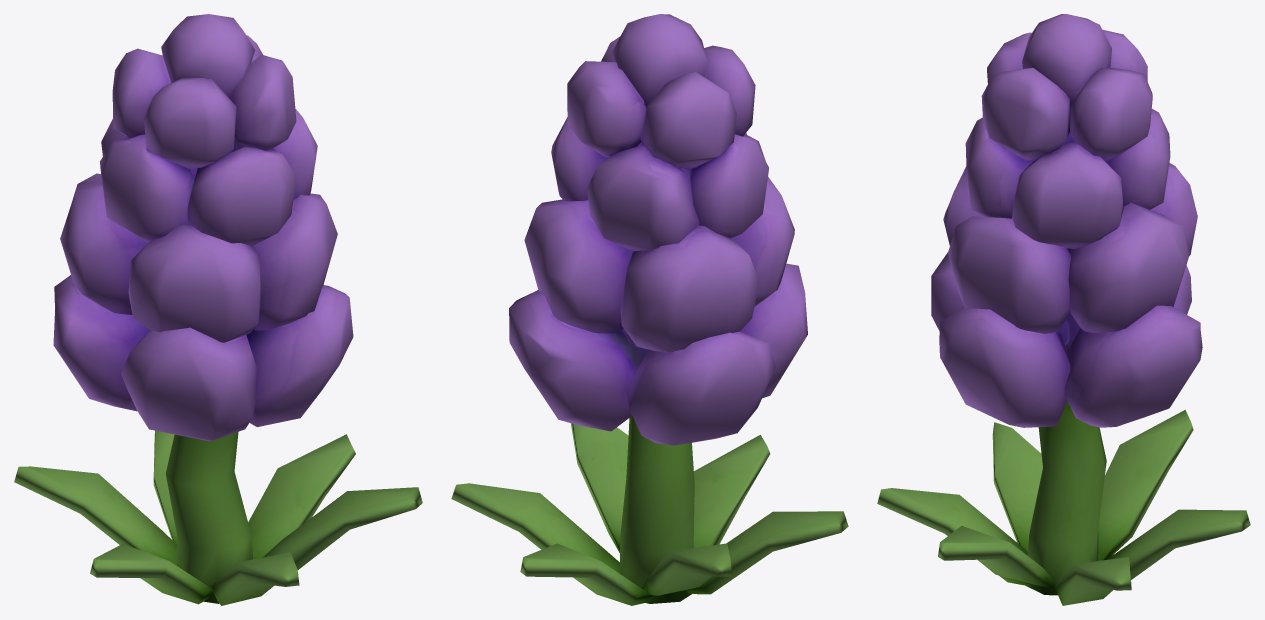
File: dbe081dc-0ecd-4293-9596-ee6464508a72_model.glb
3 views of the same model, side by side, from view 1: azimuth 30°, elevation 25°; view 2: azimuth 150°, elevation 25°; view 3: azimuth 270°, elevation 25° (orthographic). The views are drawn at different scales.
Parts seen in each view (by area): view 1: tripo_node_dbe081dc-0ecd-4293-9596-ee6464508a72; view 2: tripo_node_dbe081dc-0ecd-4293-9596-ee6464508a72; view 3: tripo_node_dbe081dc-0ecd-4293-9596-ee6464508a72.
Part boxes in pixels (box(x1,y1,x2,y2)): tripo_node_dbe081dc-0ecd-4293-9596-ee6464508a72: box(14, 14, 422, 605); tripo_node_dbe081dc-0ecd-4293-9596-ee6464508a72: box(451, 14, 848, 605); tripo_node_dbe081dc-0ecd-4293-9596-ee6464508a72: box(877, 14, 1250, 605).
Bounding box in the file's own units: 0.1479 × 0.25 × 0.15.
Materials: 1 (1 with a texture image).
